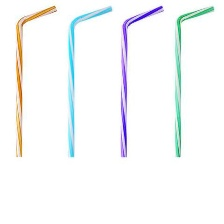drinking_straw: (114, 2, 168, 160), (8, 2, 62, 160), (63, 2, 115, 160), (171, 2, 218, 160)
